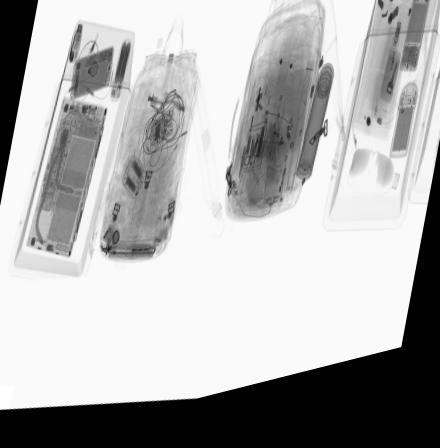Powerbank: (388, 100, 419, 179), (108, 43, 132, 108)
